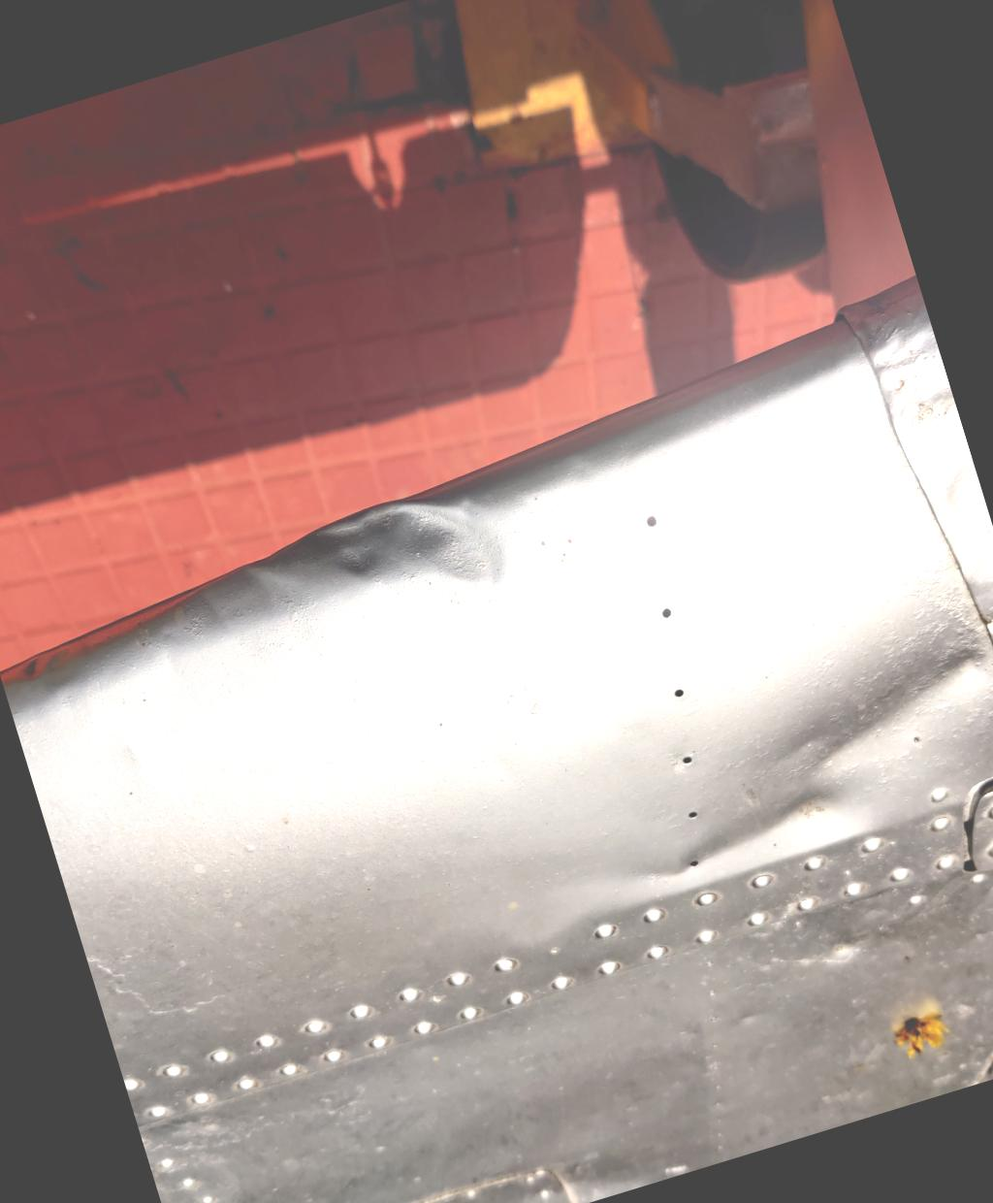dent: (562, 564, 993, 947), (255, 435, 520, 687)
